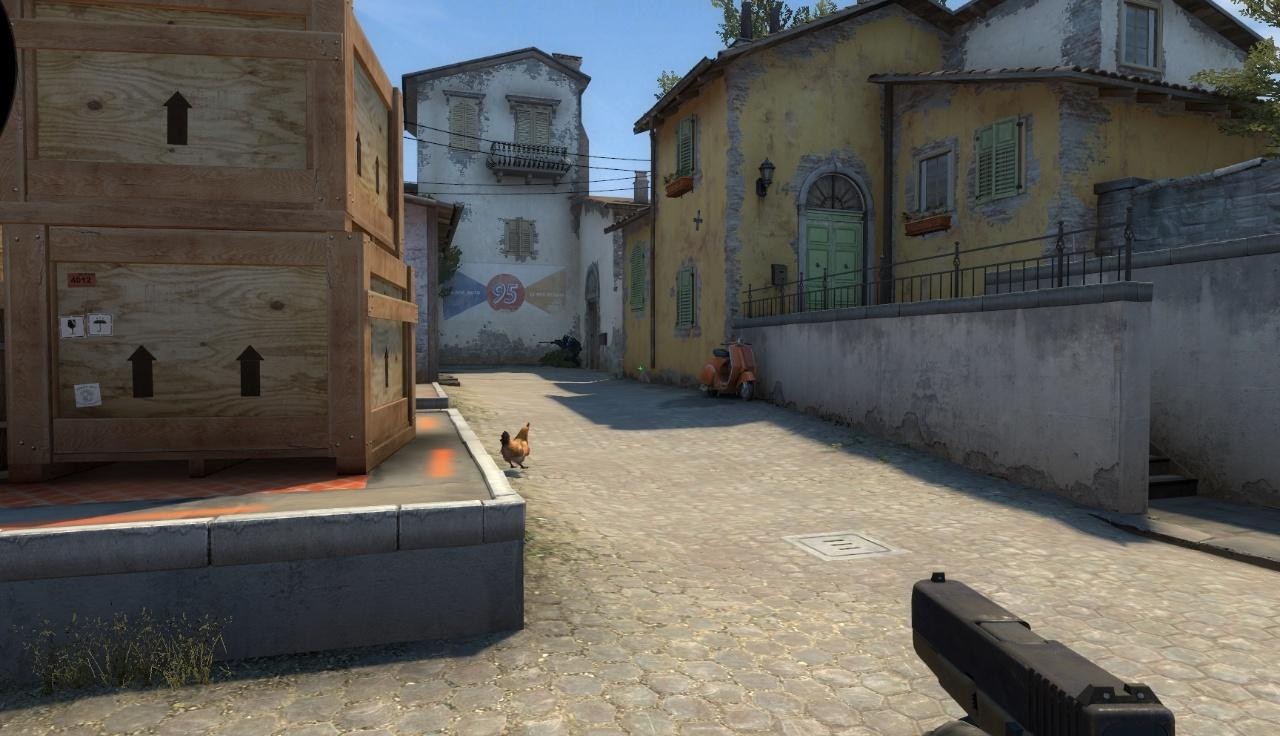ct: (560, 334, 582, 367)
cthead: (562, 335, 571, 343)
pistol: (901, 568, 1175, 736)
